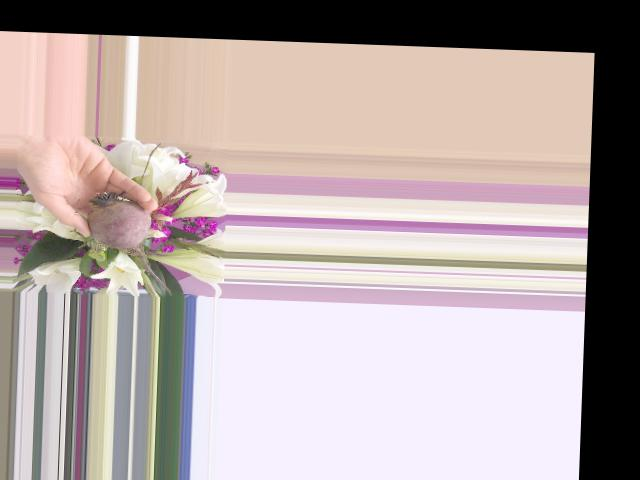beet: (85, 191, 176, 294)
